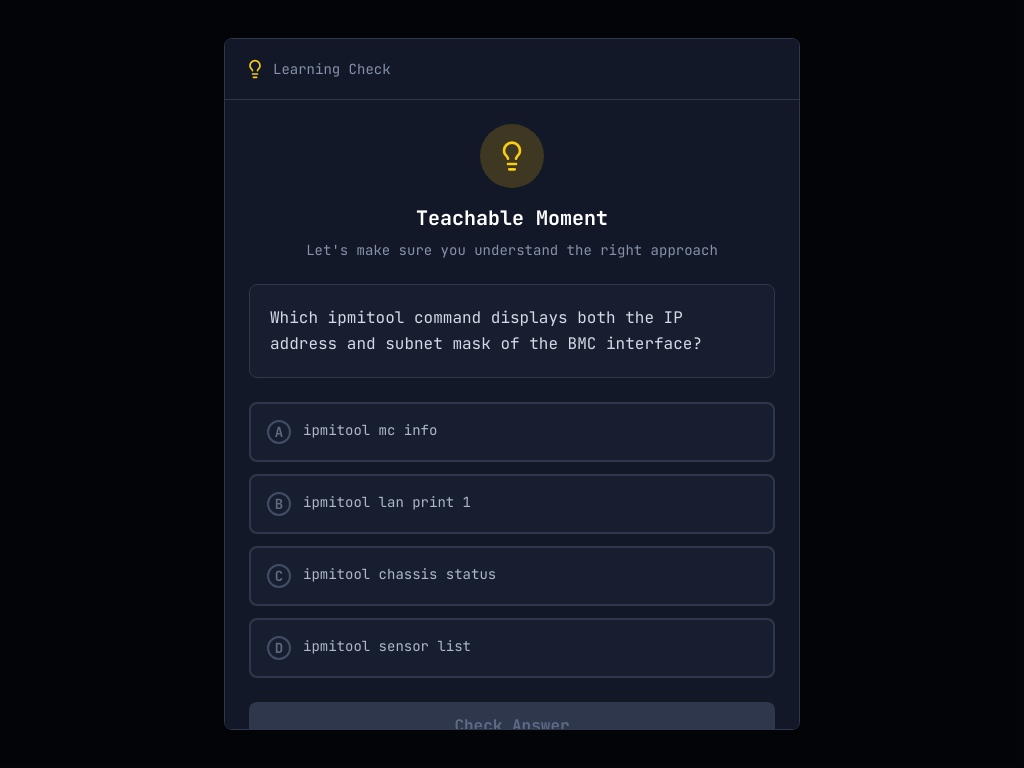
Test: ExplanationGate › Incorrect Answer Feedback › shows incorrect feedback when wrong answer is selected
The width and height of the screenshot is (1024, 768).
Click the button "A ipmitool mc info" at x=370, y=430, box [249,402,775,462]
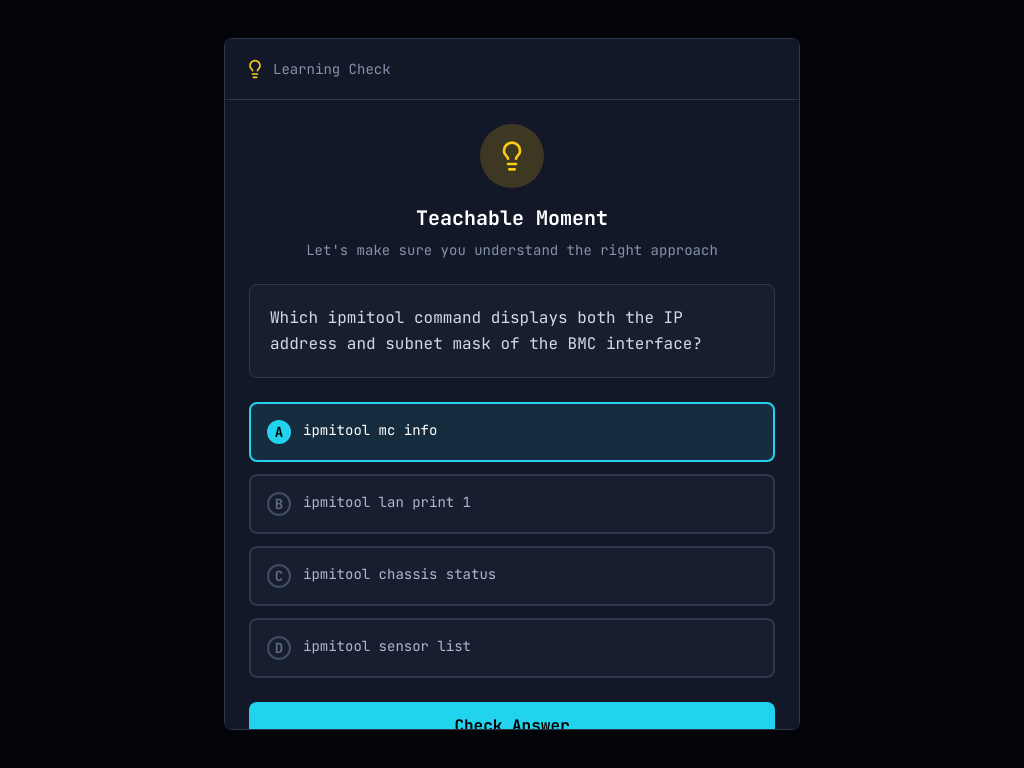
Click the button "Check Answer" at x=512, y=726, box [249,702,775,750]
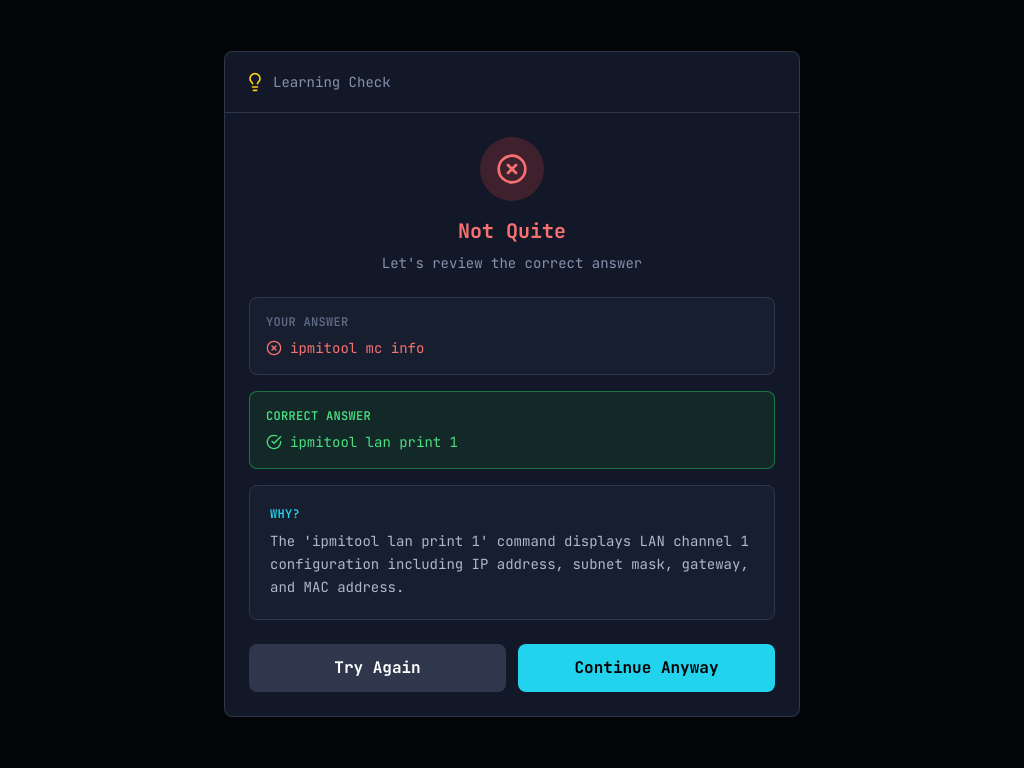
Result: the heading "Not Quite" is shown at [458,218,566,244]
